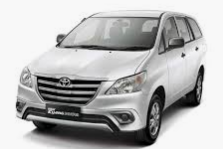car: (14, 9, 207, 146)
